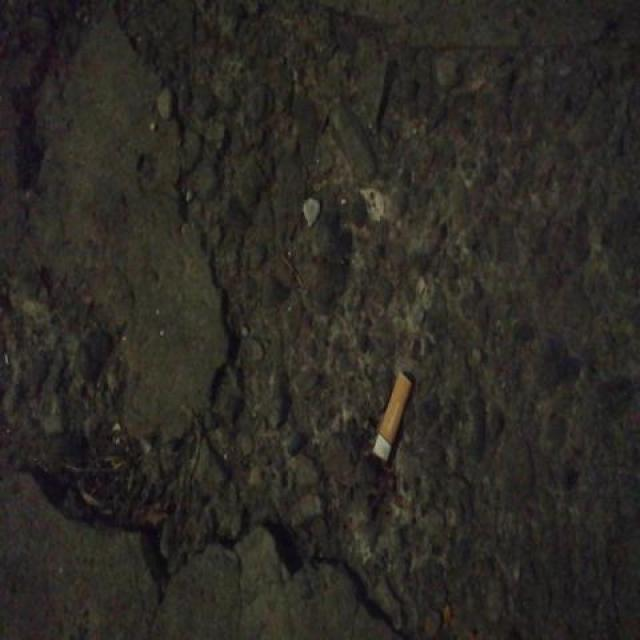non-organic waste: (371, 365, 413, 466)
